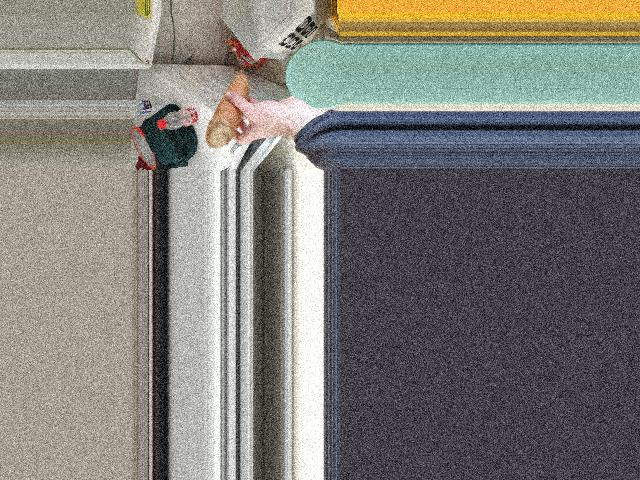sweet_potato: (202, 75, 255, 143)
